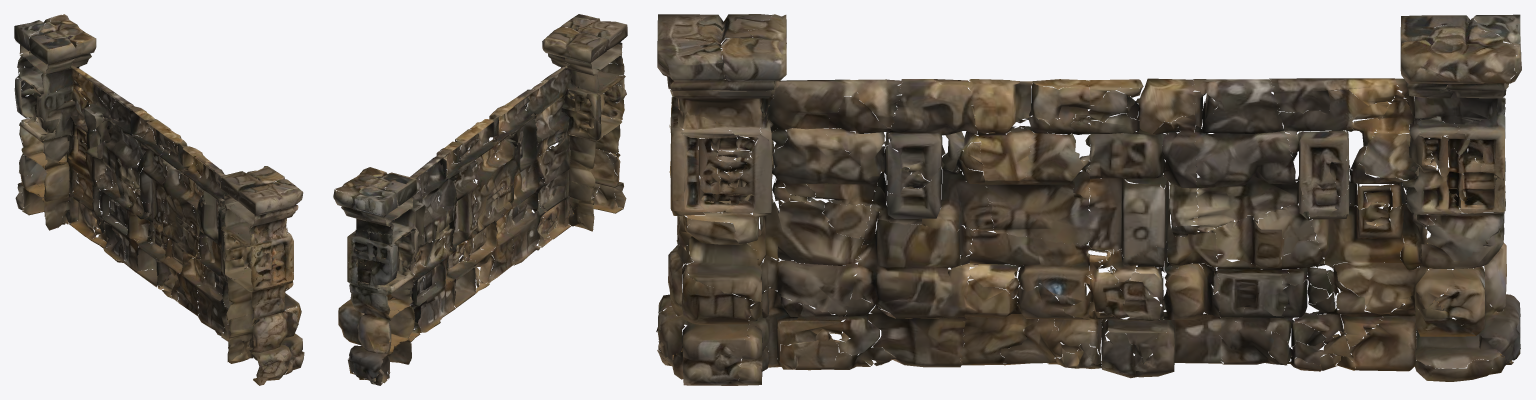
Rendered from arch_wall_vaelor_LOD0.glb.
3 renders of one model, left to right at view 1: azimuth 30°, elevation 25°; view 2: azimuth 150°, elevation 25°; view 3: azimuth 270°, elevation 25°, orthographic. The views are drawn at different scales.
Visible parts, largest first — view 1: tripo_node_d9f77c95-5727-4263-9154-96b5edb6edef; view 2: tripo_node_d9f77c95-5727-4263-9154-96b5edb6edef; view 3: tripo_node_d9f77c95-5727-4263-9154-96b5edb6edef.
Part boxes in pixels (box(x1,y1,x2,y2)): tripo_node_d9f77c95-5727-4263-9154-96b5edb6edef: box(14, 14, 304, 385); tripo_node_d9f77c95-5727-4263-9154-96b5edb6edef: box(333, 14, 627, 385); tripo_node_d9f77c95-5727-4263-9154-96b5edb6edef: box(656, 14, 1521, 385).
Bounding box in the file's own units: 0.1511 × 0.4218 × 1.
Materials: 1 (1 with a texture image).
